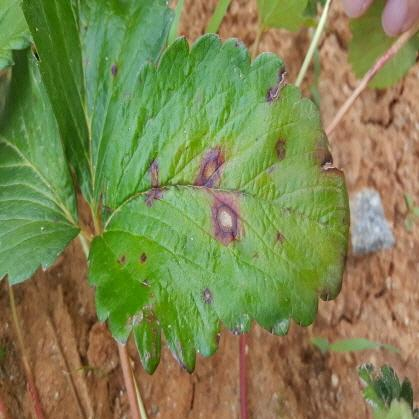Leaf Spot: (85, 32, 350, 376), (19, 0, 175, 215)
